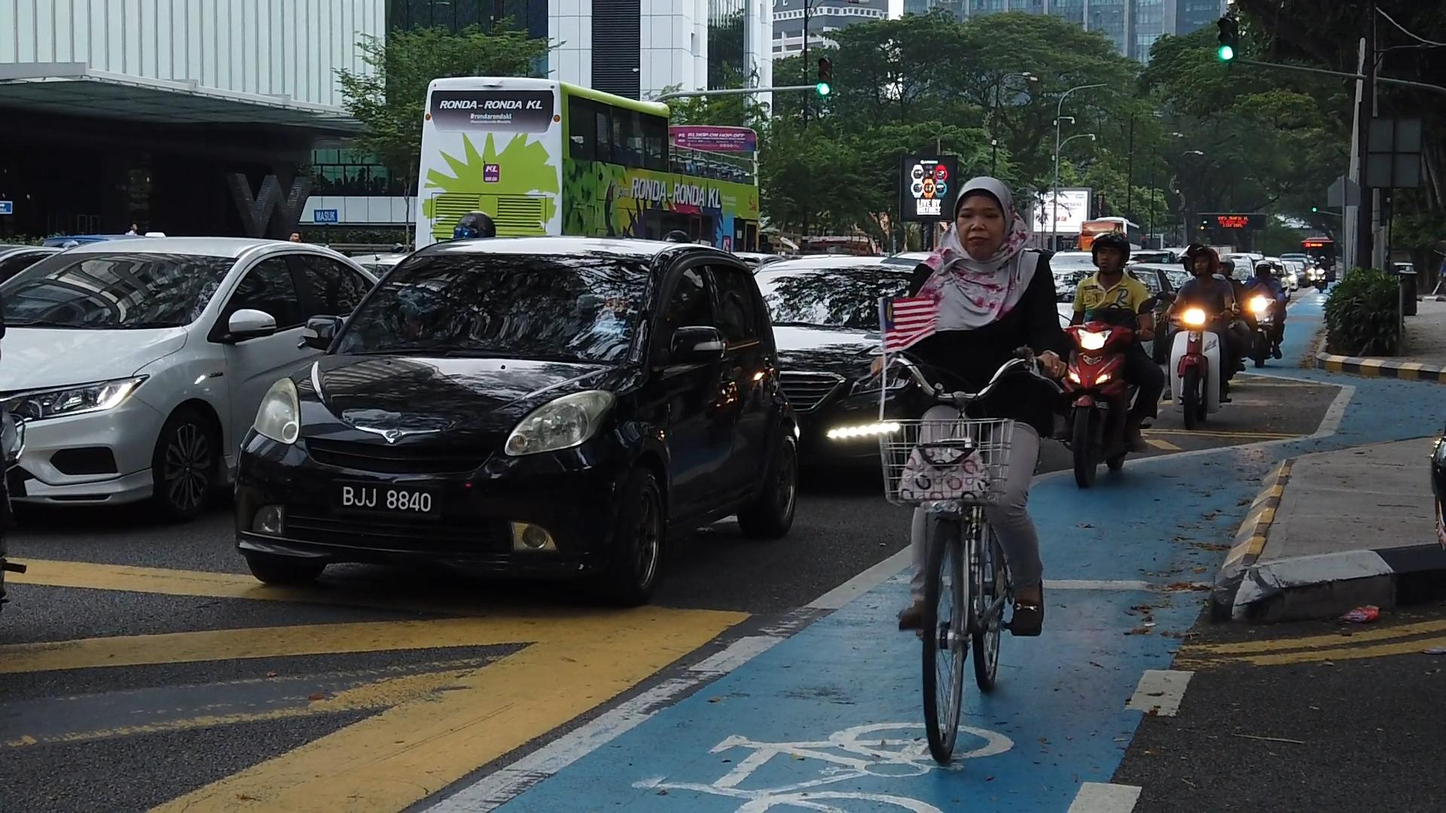bicyclist: (852, 176, 1072, 765)
driver: (1056, 231, 1165, 488), (1156, 241, 1245, 430), (1245, 260, 1288, 367)
helmet: (1090, 231, 1130, 274), (1192, 246, 1218, 276), (1218, 255, 1235, 277), (1254, 260, 1271, 276)
no-helmet: (954, 176, 1013, 258)
